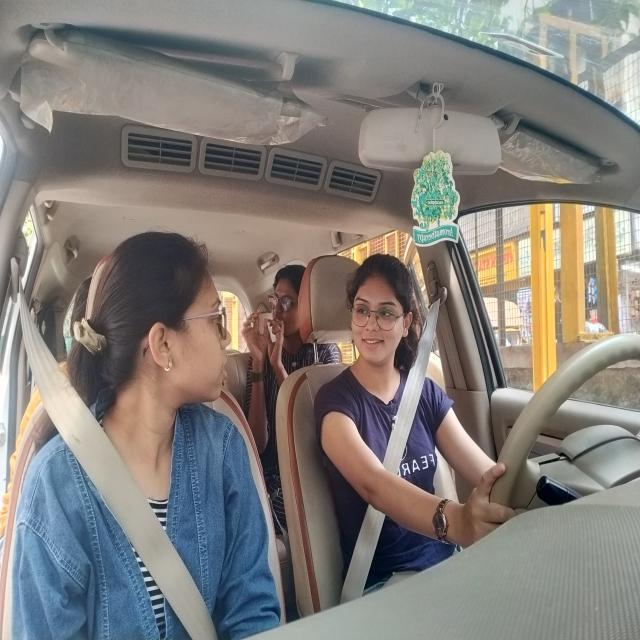LeftRight: (347, 251, 421, 384)
person: (98, 227, 235, 436), (273, 258, 306, 338)
talking: (362, 336, 386, 349)
